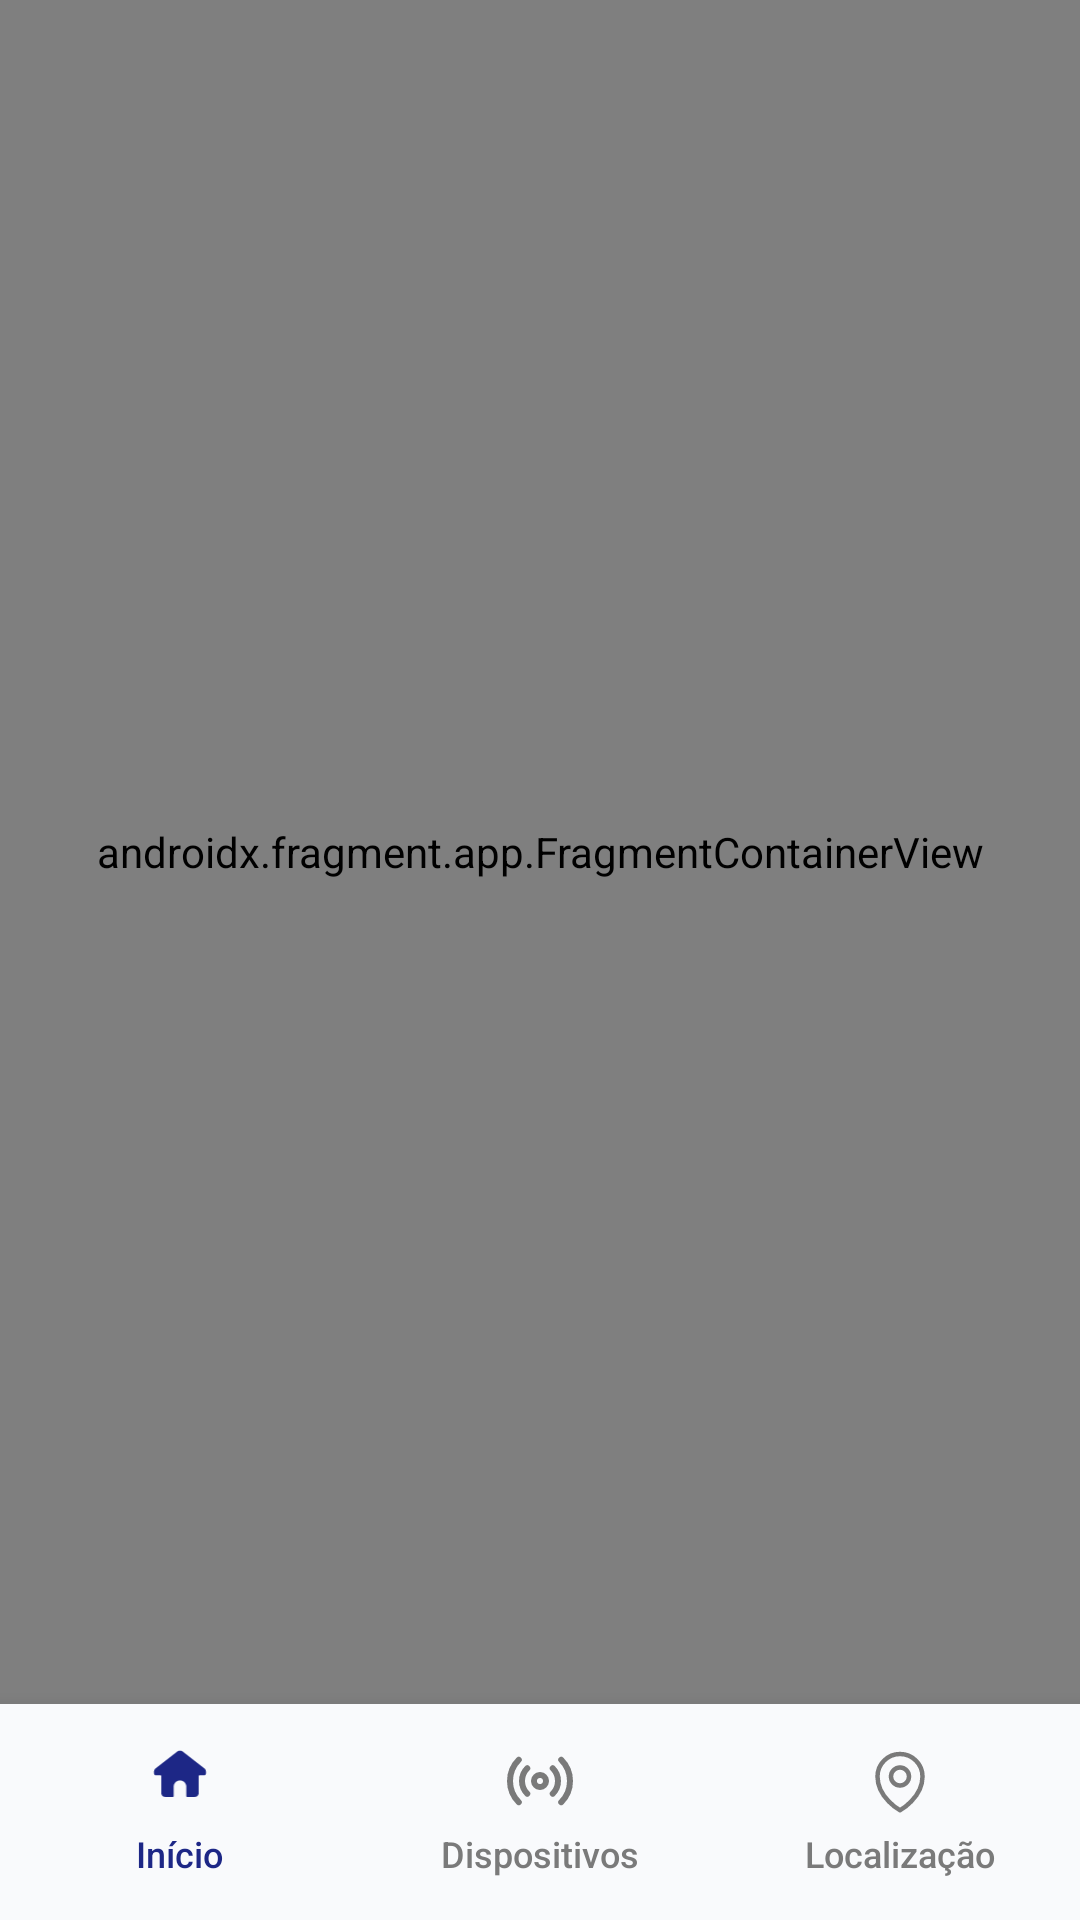

Locate icon controls on the screen. Image size 1080px x 1920px, boxes as (x1, y1, x2, y2).
home: (153, 1750, 207, 1797)
pin: (875, 1751, 925, 1813)
sensor: (507, 1756, 573, 1806)
